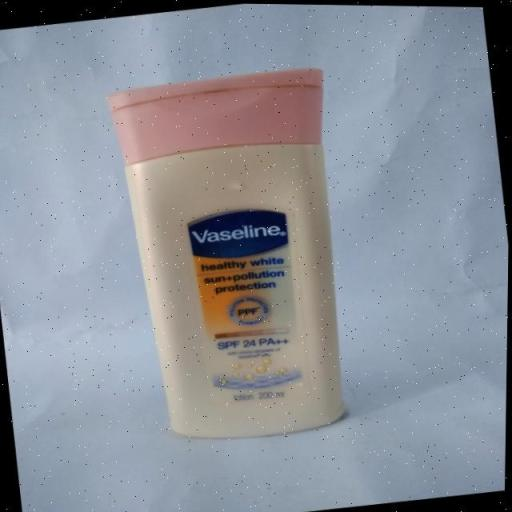plastic: (98, 56, 367, 454)
